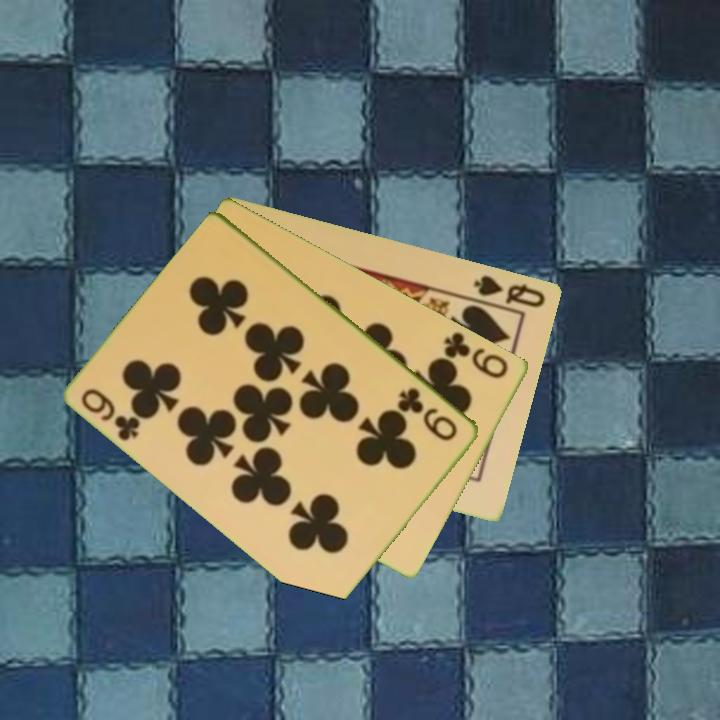9c: (395, 383, 461, 444), (78, 384, 144, 444), (440, 328, 512, 382)
Qs: (470, 271, 549, 310)
